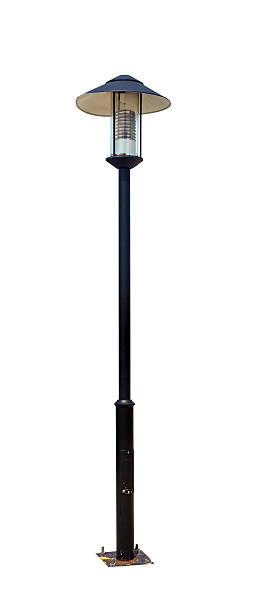light_pole: (110, 170, 139, 562)
